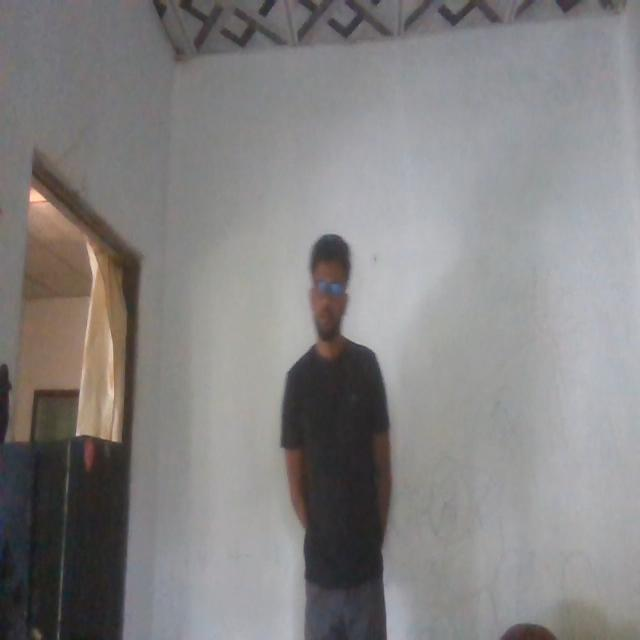Person: (280, 223, 404, 640)
